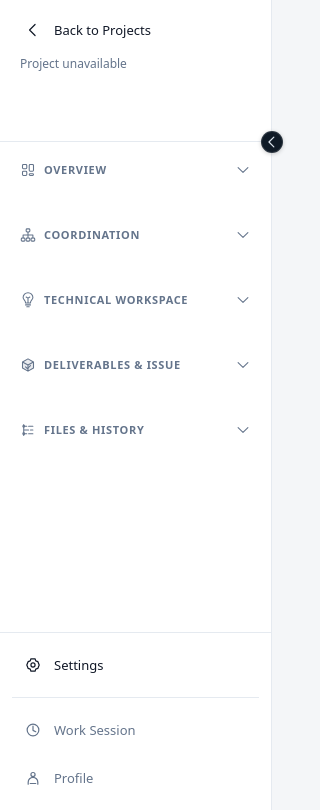
Test case: H15 reference curved tree geometry › A: Extended and Minimal use the same connector component/path family
Click the button "Coordination": (136, 235) [12, 219, 259, 251]
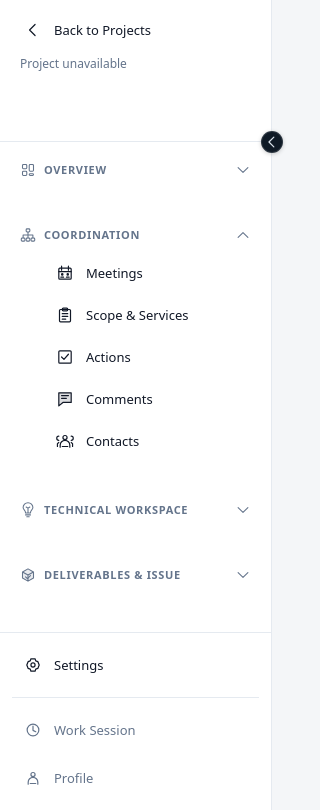
Check: the element with test id "v4-nav-group" that starts with "Coordination" is shown, box [12, 219, 259, 478]
Check: the button "Meetings" is shown, box [44, 253, 259, 293]
